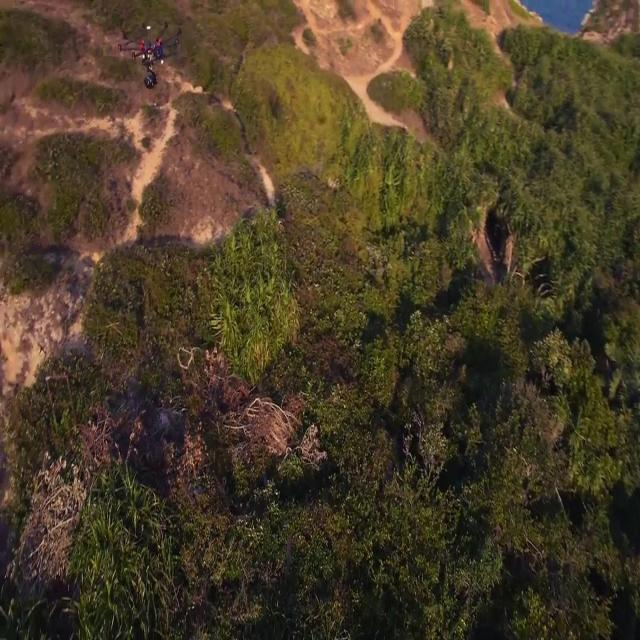UAV: (118, 26, 182, 89)
